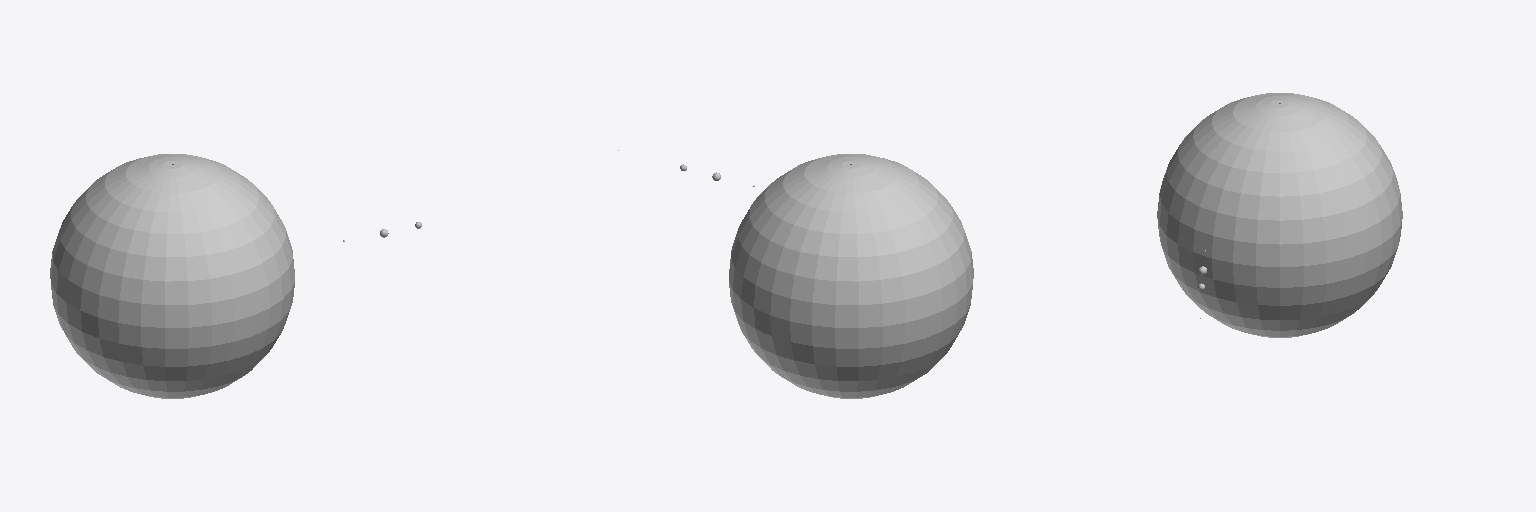
Rendered from myFirstPlanetarySystem11.obj.
3 renders of one model, left to right at view 1: azimuth 30°, elevation 25°; view 2: azimuth 150°, elevation 25°; view 3: azimuth 270°, elevation 25°, orthographic.
Visible parts, largest first — view 1: Sphere; view 2: Sphere; view 3: Sphere.
Boxes of the visible parts, x1,y1,x2,y2 form: Sphere: [50, 154, 421, 398]; Sphere: [618, 150, 973, 398]; Sphere: [1157, 93, 1402, 337].
Bounding box in the file's own units: 6.47 × 3.63 × 3.63.